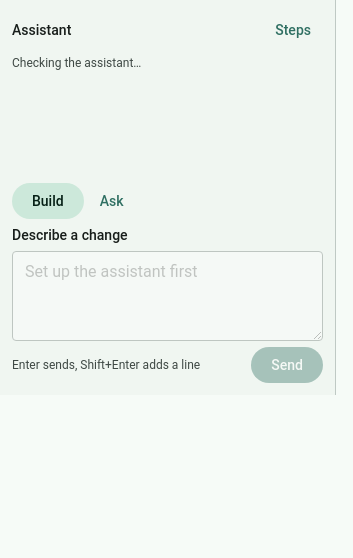
Test: assistant Undo through the history › says so when the history refuses because the workflow changed since
Type "add a step" into the text box.
click(168, 296); type("add a step")  # box [12,251,323,341]
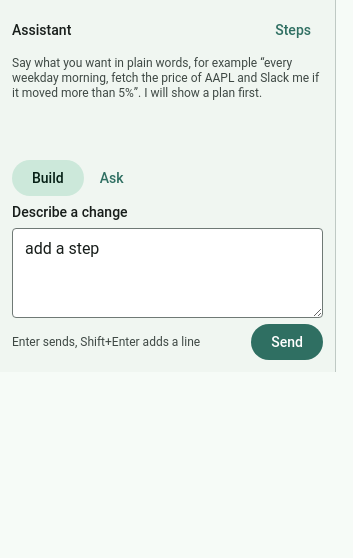
Press Enter in the text box, box [12,228,323,318]
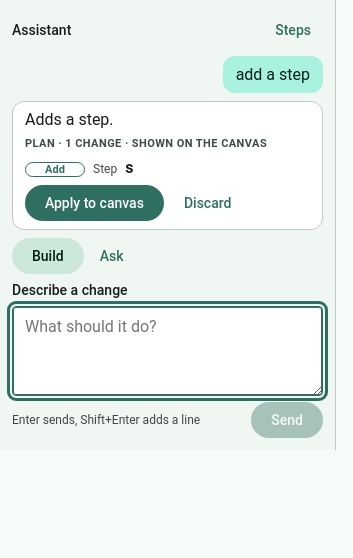
Click the button "Apply to canvas".
click(94, 203)  # box [25,185,164,221]
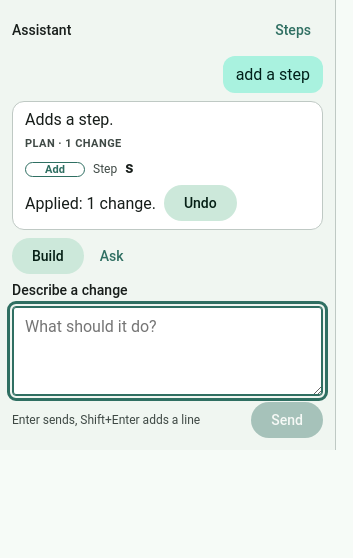
Expected: the text "Applied: 1 change." is shown, [25,194,156,212]
Click the button "Undo".
click(200, 203)  # box [164,185,237,221]
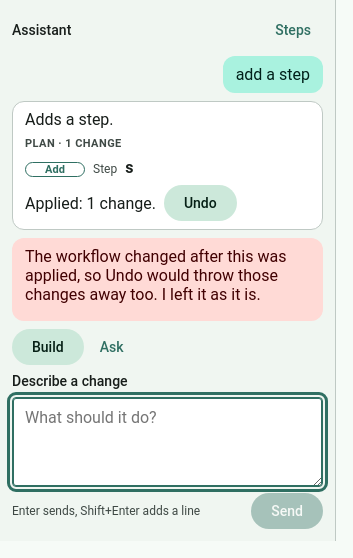
Expected: the 2nd message shows "changed after this was applied", [25,247,286,304]
